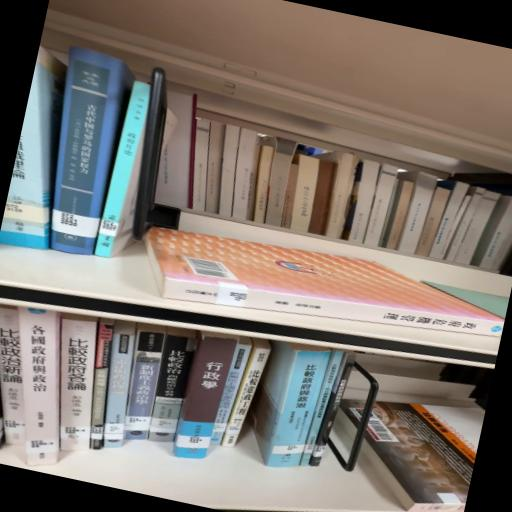flat: (145, 228, 505, 339), (366, 402, 485, 512)
